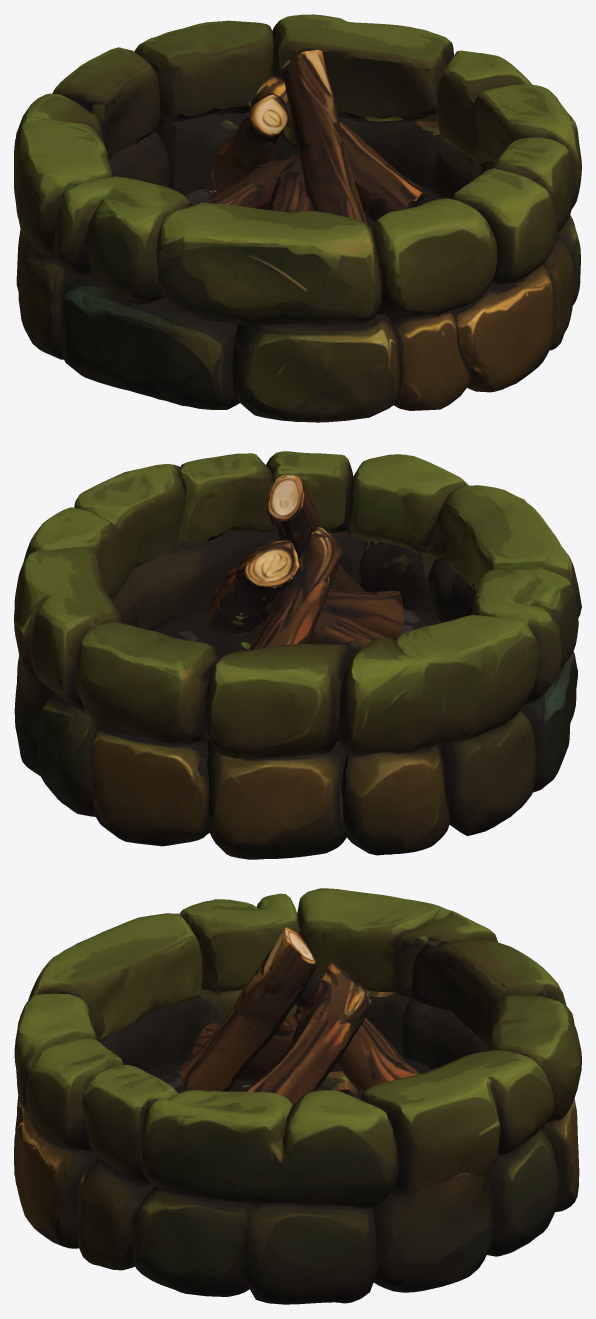
Rendered from struct_fire_pit.glb.
The picture shows the model from 3 angles, top to bottom: view 1: azimuth 30°, elevation 25°; view 2: azimuth 150°, elevation 25°; view 3: azimuth 270°, elevation 25°; orthographic projection.
Parts seen in each view (by area): view 1: struct_fire_pit; view 2: struct_fire_pit; view 3: struct_fire_pit.
Boxes of the visible parts, bbox=[...] form: struct_fire_pit: bbox=[14, 14, 581, 422]; struct_fire_pit: bbox=[14, 451, 581, 859]; struct_fire_pit: bbox=[14, 888, 581, 1304].
Bounding box in the file's own units: 1.5 × 0.7922 × 1.5.
1 material, 1 textured.
